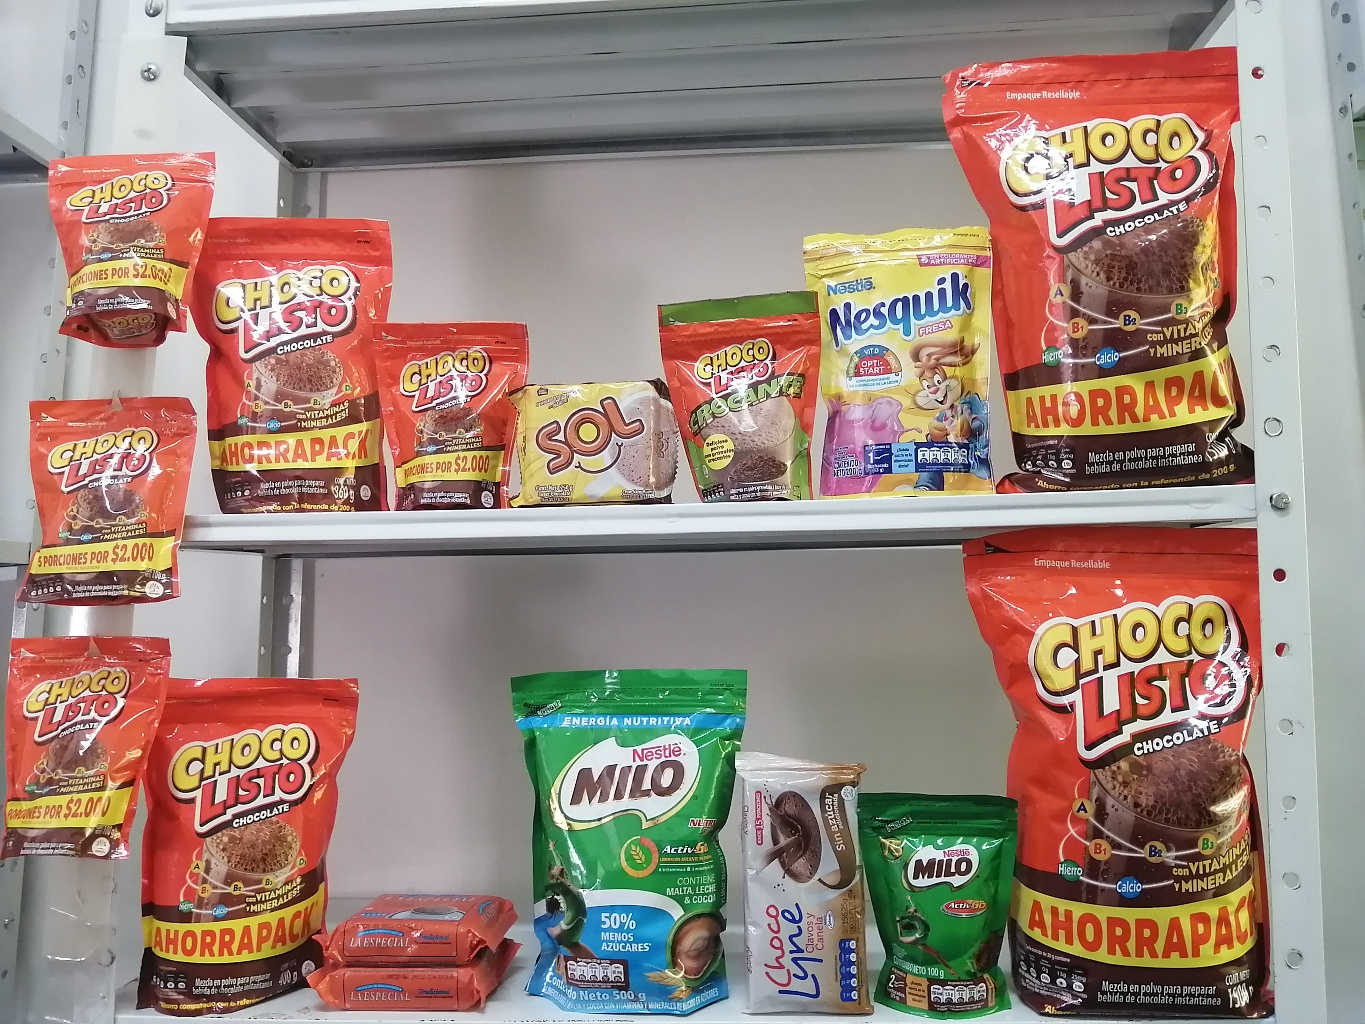COL0170102DYP10000: (642, 284, 842, 503)
COL0170103DYP1,500: (937, 43, 1265, 490)
COL0170103DYP10000: (373, 312, 516, 495)
COL0170103DYP36000: (203, 201, 398, 515)
COL0170103DYP40000: (138, 646, 360, 1016)
COL0170203DYP10000: (861, 776, 1014, 1022)
COL0170205DYP50000: (516, 649, 751, 1002)
COL0170305DYP20000: (805, 222, 989, 488)
